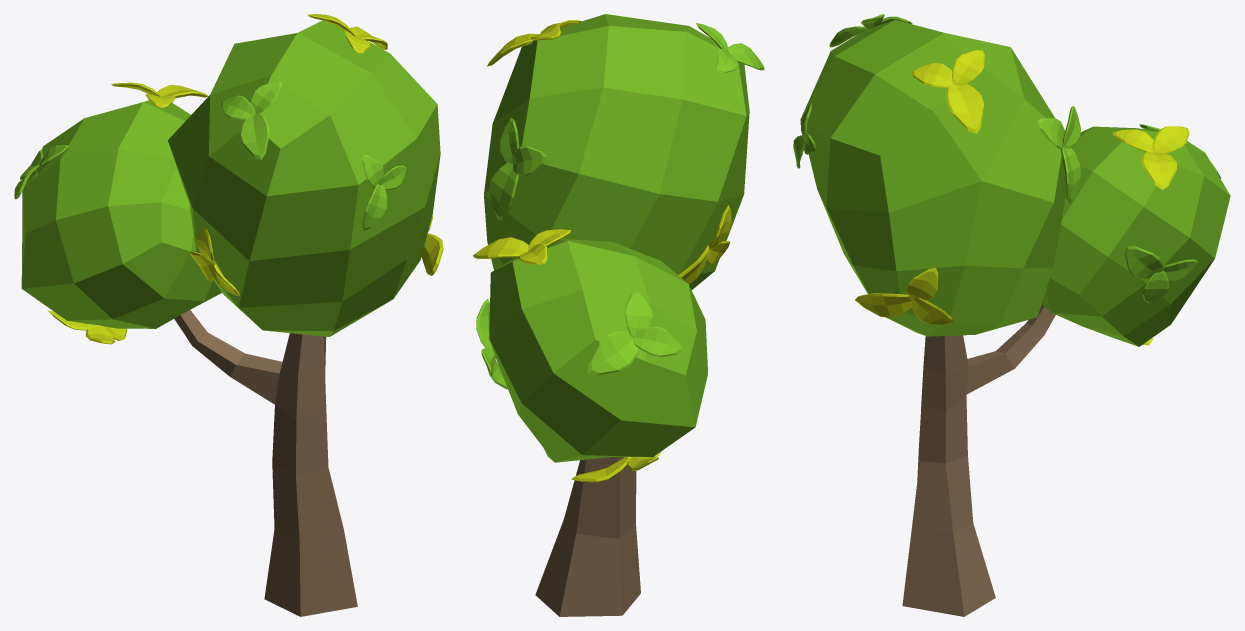
File: SM_Tree_1.fbx
3 views of the same model, side by side, from view 1: azimuth 30°, elevation 25°; view 2: azimuth 150°, elevation 25°; view 3: azimuth 270°, elevation 25° (orthographic). The views are drawn at different scales.
Visible parts, largest first — view 1: SM_Tree_1_LOD0; view 2: SM_Tree_1_LOD0; view 3: SM_Tree_1_LOD0.
Part boxes in pixels (<box>): SM_Tree_1_LOD0: <box>14,14,443,616</box>; SM_Tree_1_LOD0: <box>473,14,764,616</box>; SM_Tree_1_LOD0: <box>793,14,1230,616</box>.
Size of the model in its own units: 411 by 530 by 741.
Materials: 1 (1 with a texture image).
